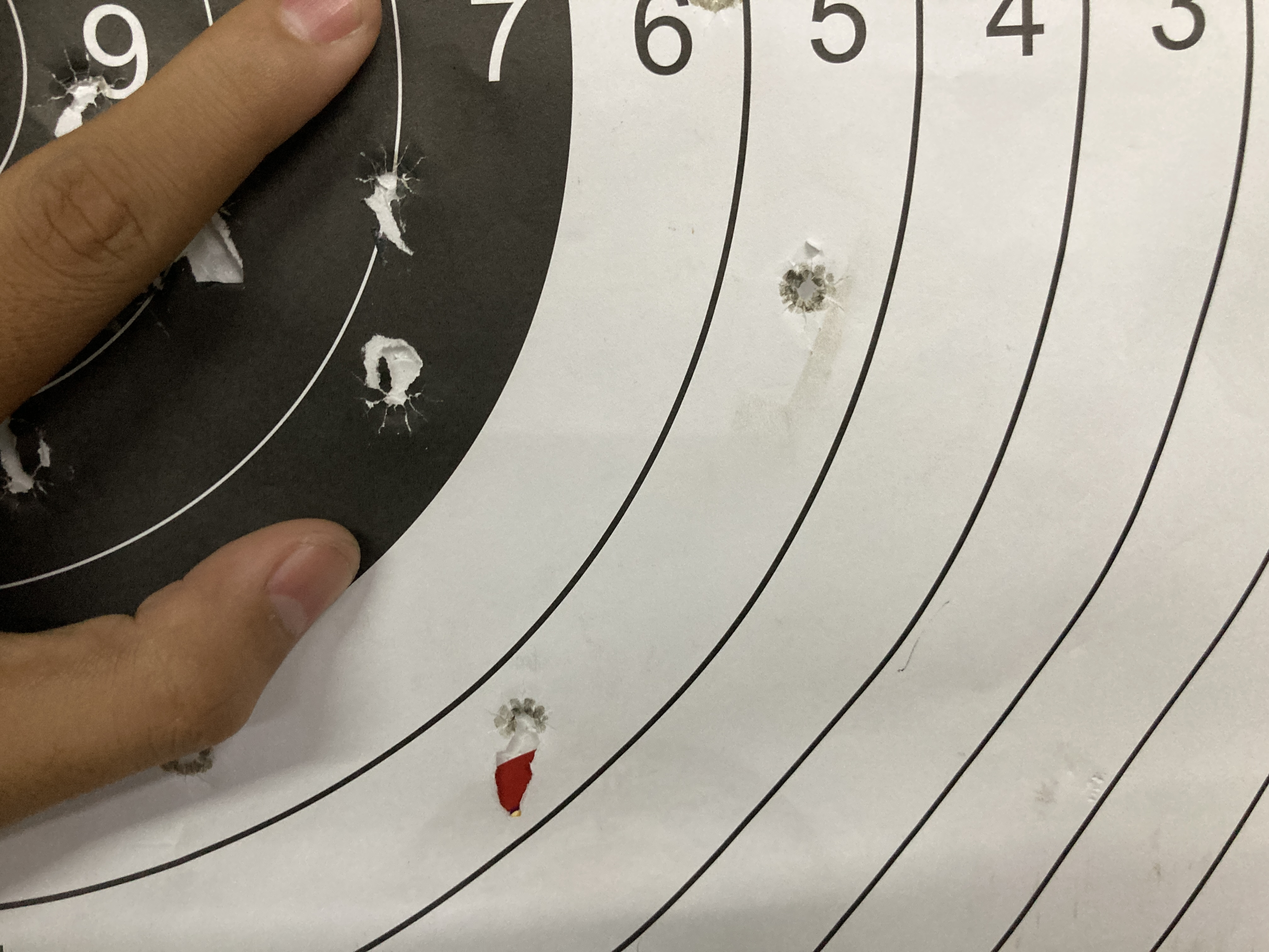hole: (356, 157, 456, 277), (469, 708, 567, 828), (768, 268, 862, 365), (0, 434, 82, 532), (343, 321, 434, 409), (25, 44, 116, 116)
